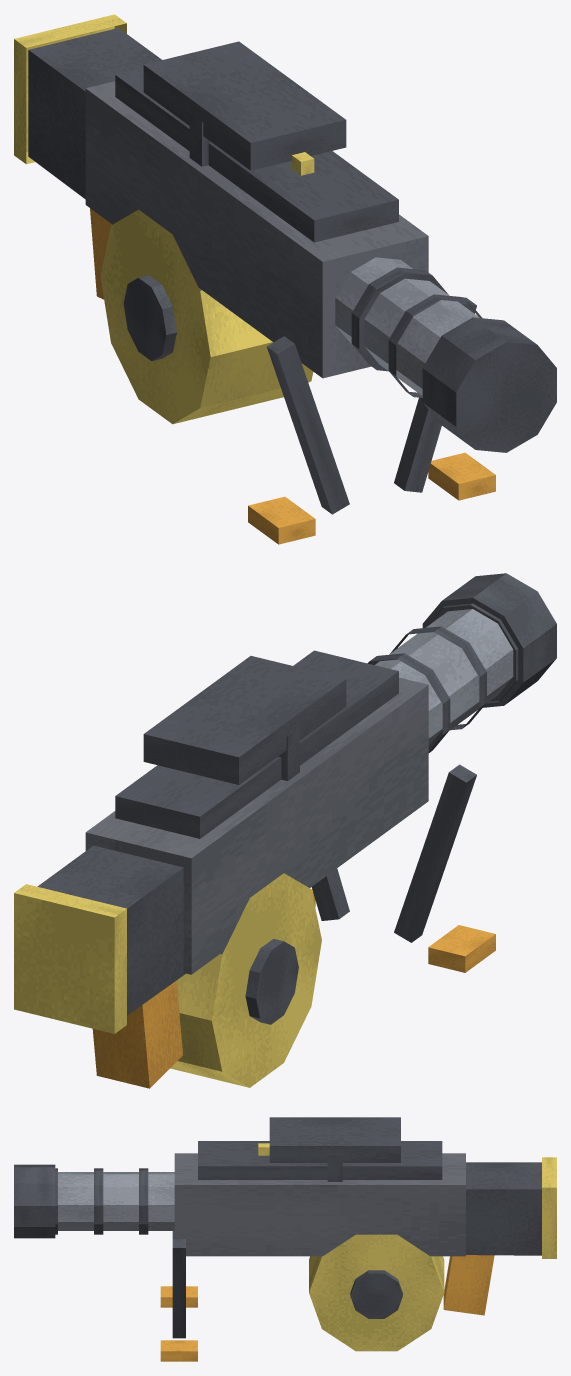
File: weapon_hmg.glb
3 renders of one model, top to bottom at view 1: azimuth 30°, elevation 25°; view 2: azimuth 150°, elevation 25°; view 3: azimuth 270°, elevation 25°, orthographic. The views are drawn at different scales.
Parts seen in each view (by area): view 1: weapon_hmg; view 2: weapon_hmg; view 3: weapon_hmg.
Boxes of the visible parts, x1,y1,x2,y2 form: weapon_hmg: (14, 14, 556, 544); weapon_hmg: (14, 573, 556, 1088); weapon_hmg: (14, 1117, 556, 1361).
Size of the model in its own units: 0.82 by 1.19 by 2.89.
1 material, 1 textured.
